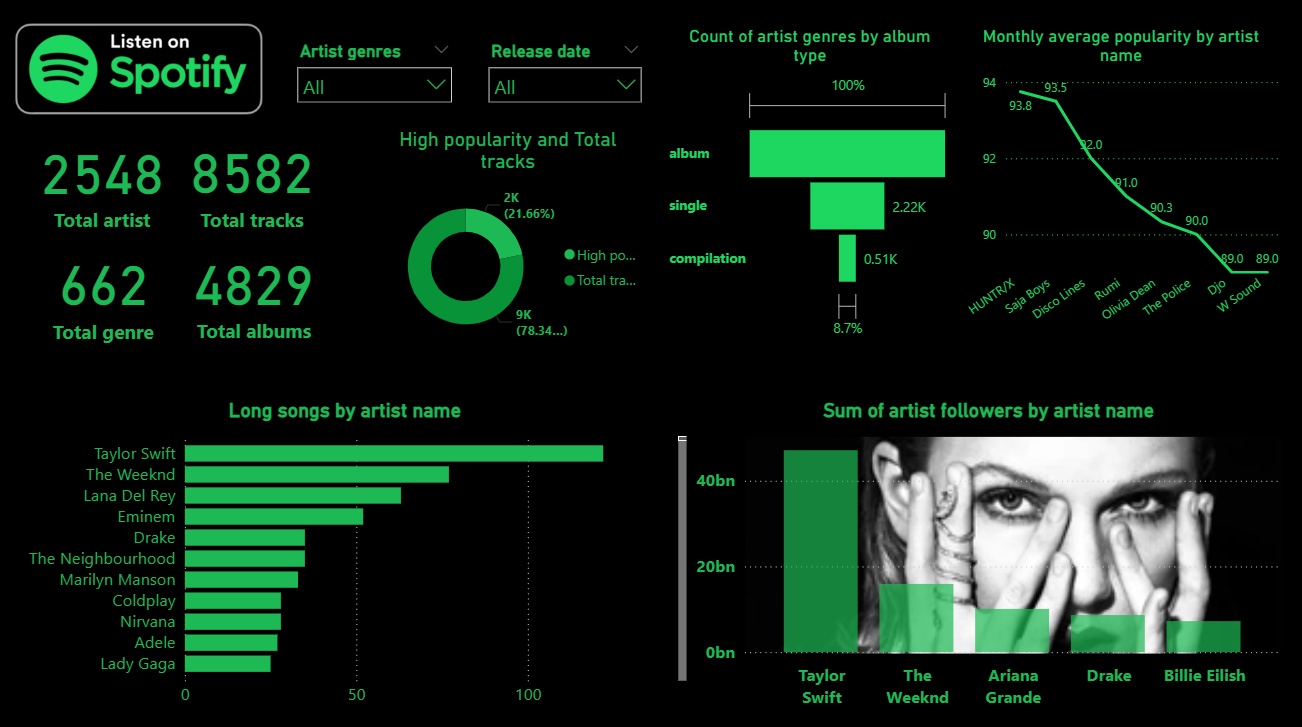

Layout of this report page (visuals, bound fields, positions):
{"tool":"powerbi","page":{"name":"Dashboard","canvas":[1280,720],"ordinal":0},"visuals":[{"type":"shape","box":[0,0,1280,720],"z":0},{"type":"image","box":[11.7,11.7,251.7,115],"z":1000},{"type":"card","fields":{"Values":["spotify_data clean.Total artist"]},"box":[33.3,126.7,138.3,101.7],"z":2000},{"type":"card","fields":{"Values":["spotify_data clean.Total tracks"]},"box":[171.7,118.3,155,118.3],"z":3000},{"type":"card","fields":{"Values":["spotify_data clean.Total albums"]},"box":[180,235,141.7,103.3],"z":4000},{"type":"card","fields":{"Values":["spotify_data clean.Total genre"]},"box":[23.3,228.3,160,116.7],"z":5000},{"type":"slicer","fields":{"Values":["spotify_data clean.artist_genres"]},"box":[282.7,37,171.5,65.9],"z":6000},{"type":"slicer","fields":{"Values":["spotify_data clean.Release date"]},"box":[469.3,37,170.2,65.9],"z":7000},{"type":"barChart","title":"Long songs by artist name","fields":{"Category":["spotify_data clean.artist_name"],"Y":["spotify_data clean.Long songs"]},"box":[0,392.5,678.7,310.6],"z":8000},{"type":"donutChart","fields":{"Y":["spotify_data clean.High popularity","spotify_data clean.Total tracks"]},"box":[356.7,126.7,283.3,223.3],"z":9000},{"type":"columnChart","title":"Sum of artist followers by artist name","fields":{"Category":["spotify_data clean.artist_name"],"Y":["Sum(spotify_data clean.artist_followers)"]},"box":[677.4,392.5,583.3,310.6],"z":10000},{"type":"funnel","title":"Count of artist genres by album type","fields":{"Category":["spotify_data clean.album_type"],"Y":["CountNonNull(spotify_data clean.artist_genres)"]},"box":[651.8,26.9,284.9,311.8],"z":11000},{"type":"lineChart","title":"Monthly average popularity by artist name","fields":{"Y":["spotify_data clean.Monthly average popularity"],"Category":["spotify_data clean.artist_name"]},"box":[936.7,26.9,324.1,311.8],"z":12000}]}

Visuals, with their boxes in screenshot pixels (x1, y1, x2, y2), scaled from the page's 1280x720 canvas onto the 1302x727 screenshot:
shape: (x1=0, y1=0, x2=1301, y2=726)
image: (x1=12, y1=12, x2=268, y2=128)
card - spotify_data clean.Total artist: (x1=34, y1=128, x2=175, y2=231)
card - spotify_data clean.Total tracks: (x1=175, y1=119, x2=332, y2=239)
card - spotify_data clean.Total albums: (x1=183, y1=237, x2=327, y2=342)
card - spotify_data clean.Total genre: (x1=24, y1=231, x2=186, y2=348)
slicer - spotify_data clean.artist_genres: (x1=288, y1=37, x2=462, y2=104)
slicer - spotify_data clean.Release date: (x1=477, y1=37, x2=650, y2=104)
"Long songs by artist name" barChart: (x1=0, y1=396, x2=690, y2=710)
donutChart - spotify_data clean.High popularity x spotify_data clean.Total tracks: (x1=363, y1=128, x2=651, y2=353)
"Sum of artist followers by artist name" columnChart: (x1=689, y1=396, x2=1282, y2=710)
"Count of artist genres by album type" funnel: (x1=663, y1=27, x2=953, y2=342)
"Monthly average popularity by artist name" lineChart: (x1=953, y1=27, x2=1282, y2=342)
